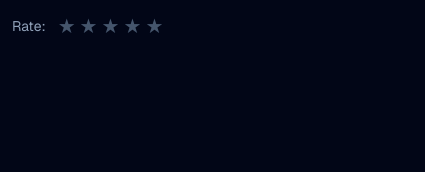
RatingStars › leaves the stars usable after a failure and clears the error on retry
The width and height of the screenshot is (425, 172).
Step 1. Click the 5th button "★" → (154, 26), box [145, 12, 163, 40]
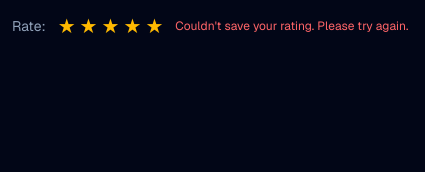
Check: the message "Couldn't save your rating. Please try again." is shown, box [175, 18, 408, 34]
Step 2. Click the 5th button "★" → (154, 26), box [145, 12, 163, 40]
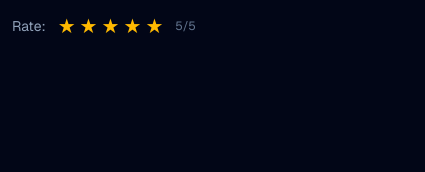
Check: the text "5/5" is shown, box [175, 18, 196, 34]
Check: the message "Couldn't save your rating. Please try again." is gone
